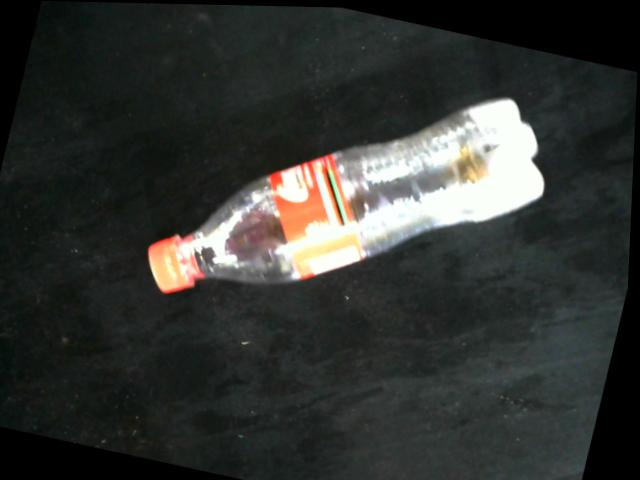bottle: (148, 95, 547, 293)
